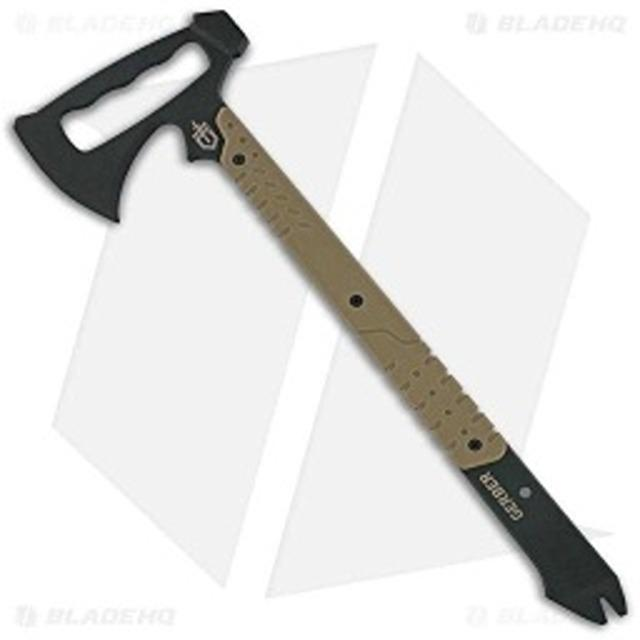ax: (8, 2, 636, 630)
